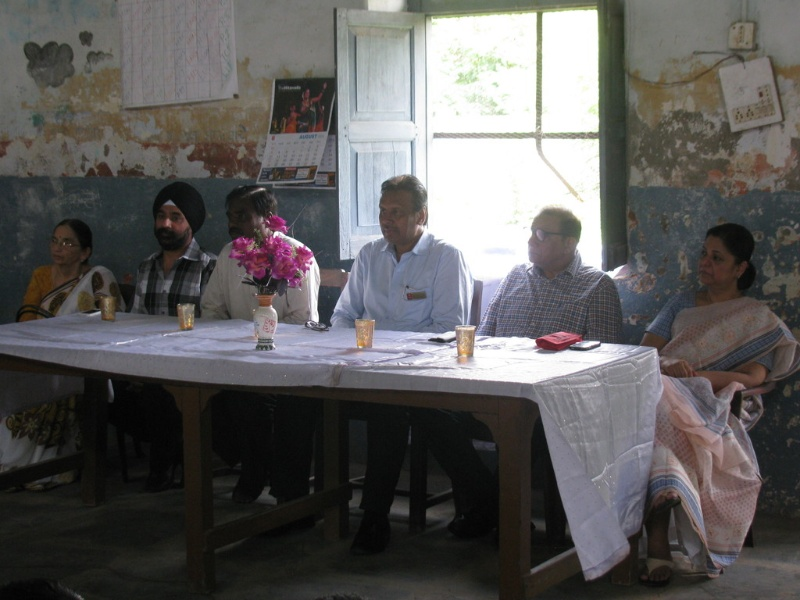dining table: (2, 293, 660, 600)
